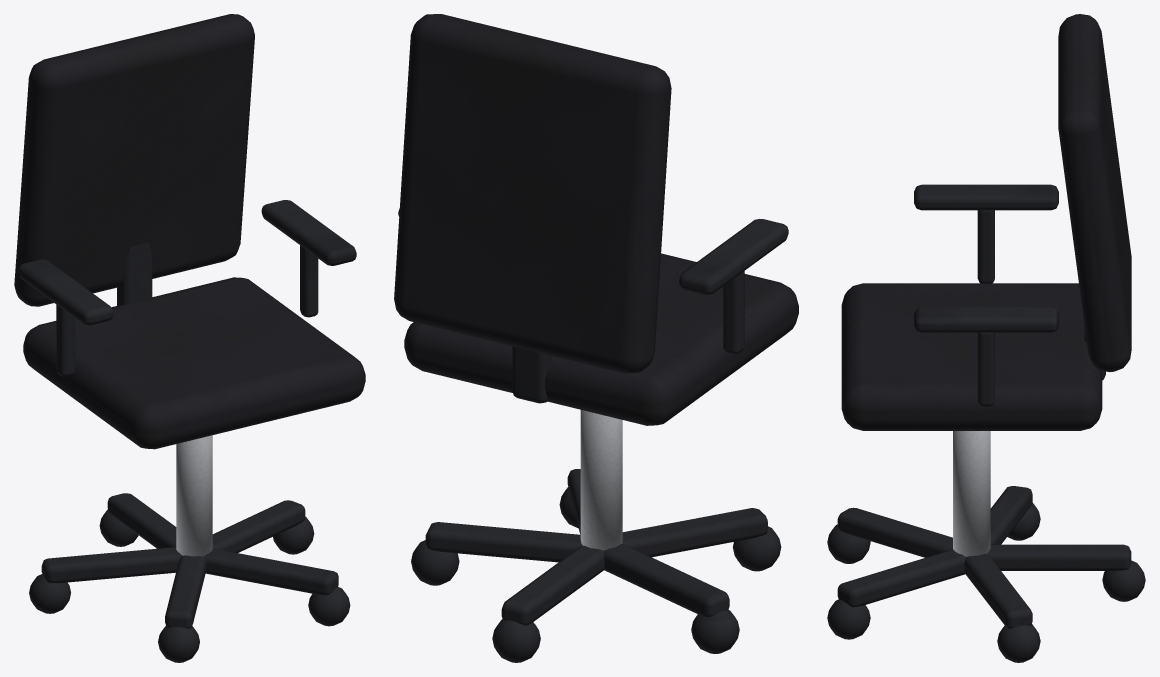
File: OfficeChair.glb
3 views of the same model, side by side, from view 1: azimuth 30°, elevation 25°; view 2: azimuth 150°, elevation 25°; view 3: azimuth 270°, elevation 25° (orthographic). The views are drawn at different scales.
Visible parts, largest first — view 1: OfficeChair_FabricBlack, OfficeChair_PlasticDark, OfficeChair_Steel; view 2: OfficeChair_FabricBlack, OfficeChair_PlasticDark, OfficeChair_Steel; view 3: OfficeChair_FabricBlack, OfficeChair_PlasticDark, OfficeChair_Steel.
Boxes of the visible parts, x1,y1,x2,y2 form: OfficeChair_FabricBlack: (14,14,365,449); OfficeChair_PlasticDark: (18,200,356,662); OfficeChair_Steel: (176,435,212,556); OfficeChair_FabricBlack: (394,14,798,425); OfficeChair_PlasticDark: (398,209,788,662); OfficeChair_Steel: (580,410,622,550); OfficeChair_FabricBlack: (841,14,1131,430); OfficeChair_PlasticDark: (827,184,1145,662); OfficeChair_Steel: (953,431,990,556).
Bounding box in the file's own units: 2.3 × 4.09 × 2.2.
3 materials, 3 textured.
